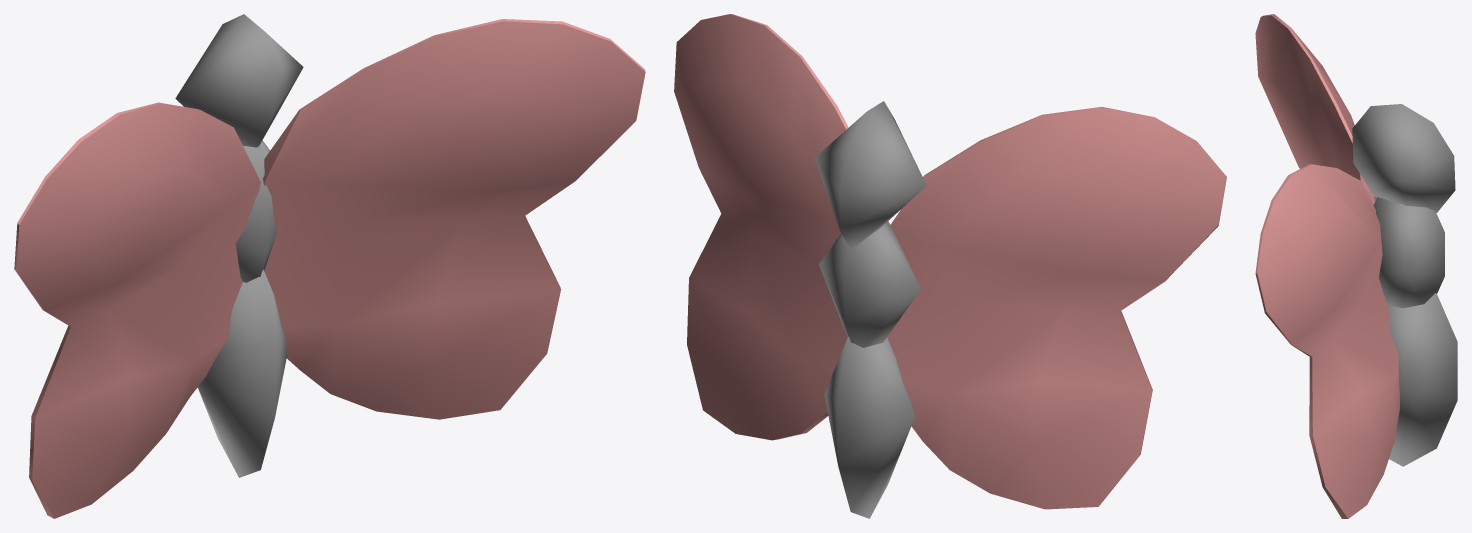
Rendered from Prop_Bug_00_dummy.FBX.
The picture shows the model from 3 angles, left to right: view 1: azimuth 30°, elevation 25°; view 2: azimuth 150°, elevation 25°; view 3: azimuth 270°, elevation 25°; orthographic projection. The views are drawn at different scales.
Parts seen in each view (by area): view 1: Bug_Dummy; view 2: Bug_Dummy; view 3: Bug_Dummy.
Part boxes in pixels (x1,y1,x2,y2): Bug_Dummy: (14, 14, 645, 518); Bug_Dummy: (674, 14, 1226, 518); Bug_Dummy: (1255, 14, 1457, 518).
Bounding box in the file's own units: 19.87 × 14.04 × 7.04.
